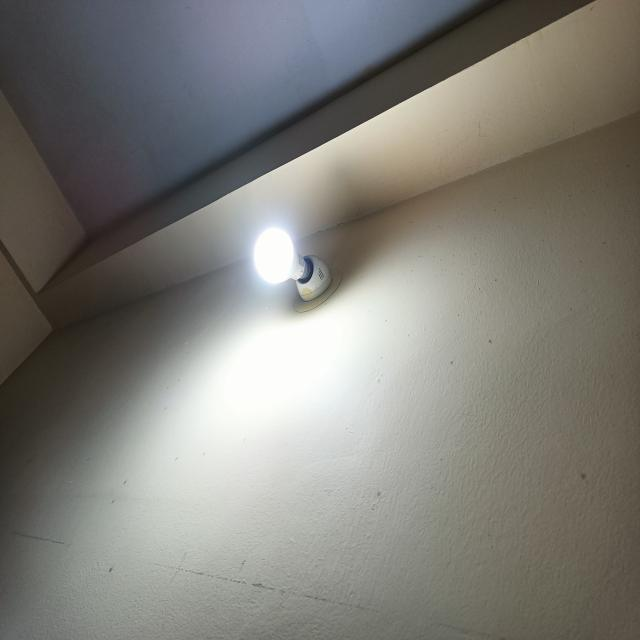bulb_on: (252, 225, 296, 286)
